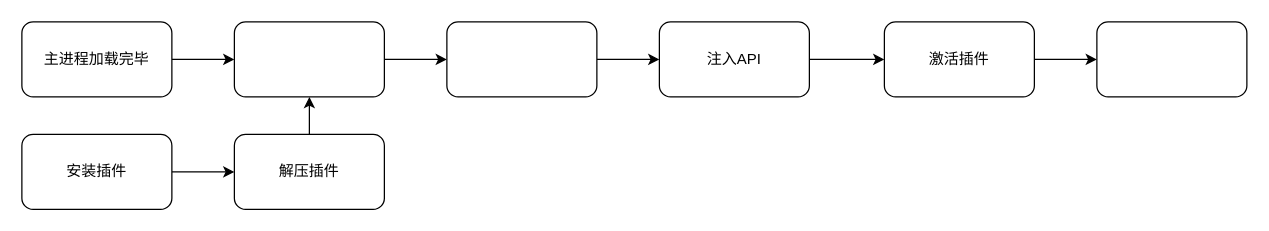
Some shapes in this 1269 by 231 pixel diagram are drawn without their labels. Here are the shapes that lost their labels. From the top down, the centre of each, then its label:
the point at 308,59: 加载插件文件
the point at 521,59: 创建插件进程
the point at 1171,59: 初始化插件
